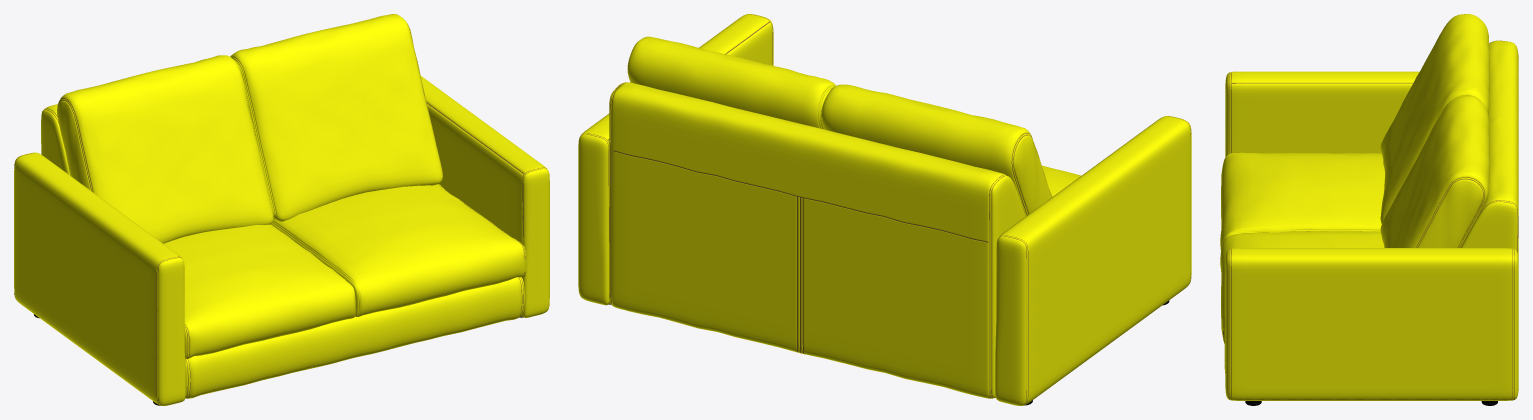
3 views of the same model, side by side, from view 1: azimuth 30°, elevation 25°; view 2: azimuth 150°, elevation 25°; view 3: azimuth 270°, elevation 25° (orthographic). The views are drawn at different scales.
Parts seen in each view (by area): view 1: bodyred62, leftarm62, rightarm62; view 2: bodyred62, leftarm62, rightarm62; view 3: rightarm62, bodyred62, leftarm62.
Boxes of the visible parts, bbox=[...] form: bodyred62: bbox=[41, 14, 526, 398]; leftarm62: bbox=[14, 152, 185, 405]; rightarm62: bbox=[421, 76, 549, 317]; bodyred62: bbox=[609, 36, 1081, 398]; leftarm62: bbox=[995, 116, 1191, 405]; rightarm62: bbox=[578, 14, 773, 305]; rightarm62: bbox=[1225, 248, 1518, 400]; bodyred62: bbox=[1220, 14, 1518, 372]; leftarm62: bbox=[1225, 71, 1419, 156].
Bounding box in the file's own units: 1.4 × 0.7704 × 0.9321.
7 materials, 5 textured.
